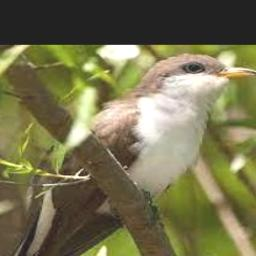Cuckoo: (0, 53, 256, 256)
